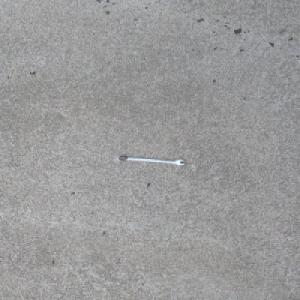Wrench: (115, 155, 187, 166)
